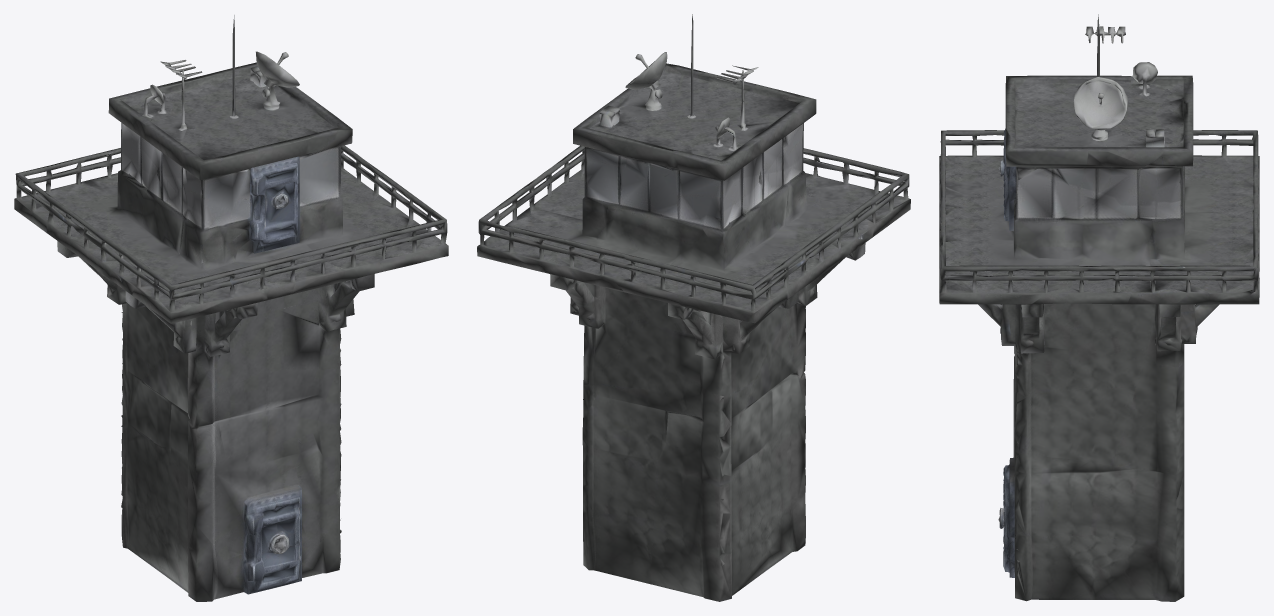
File: gt_concrete.glb
3 renders of one model, left to right at view 1: azimuth 30°, elevation 25°; view 2: azimuth 150°, elevation 25°; view 3: azimuth 270°, elevation 25°, orthographic. The views are drawn at different scales.
Visible parts, largest first — view 1: gt_concrete; view 2: gt_concrete; view 3: gt_concrete.
Part boxes in pixels (left/top/right/bottom): gt_concrete: left=14, top=15, right=448, bottom=601; gt_concrete: left=477, top=14, right=910, bottom=601; gt_concrete: left=939, top=14, right=1259, bottom=601.
Bounding box in the file's own units: 1.02 × 1.9 × 0.9997.
Materials: 1 (1 with a texture image).
